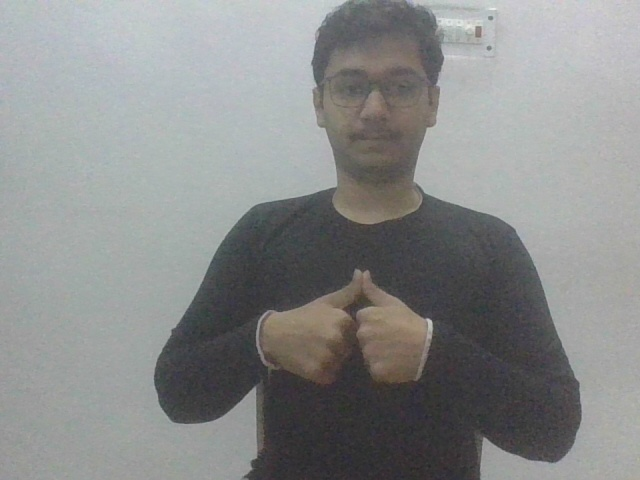A: (255, 265, 434, 384)
